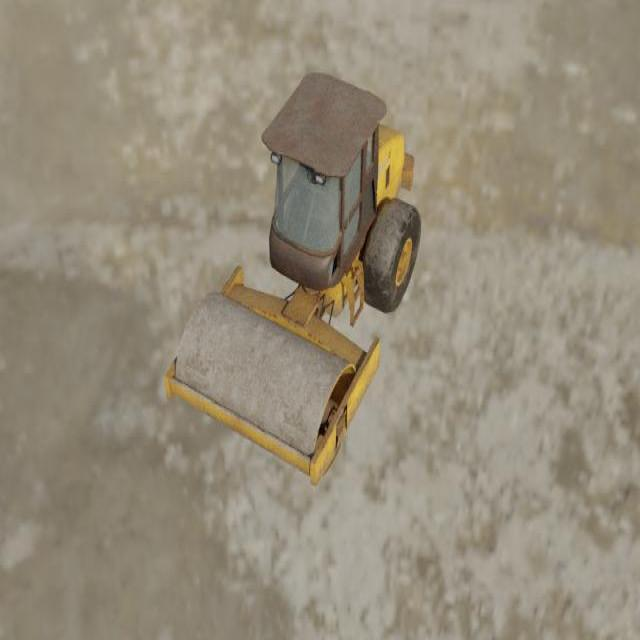Roller: (163, 70, 421, 487)
